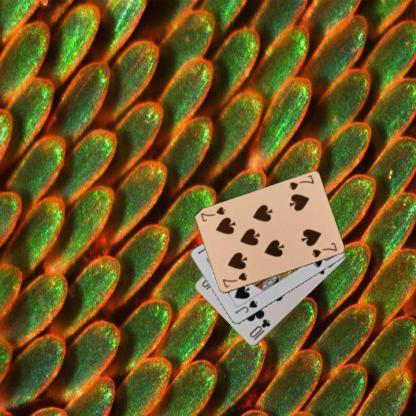10c: (247, 317, 272, 339)
7s: (286, 173, 316, 192), (220, 270, 249, 289)
Js: (232, 297, 259, 315)
